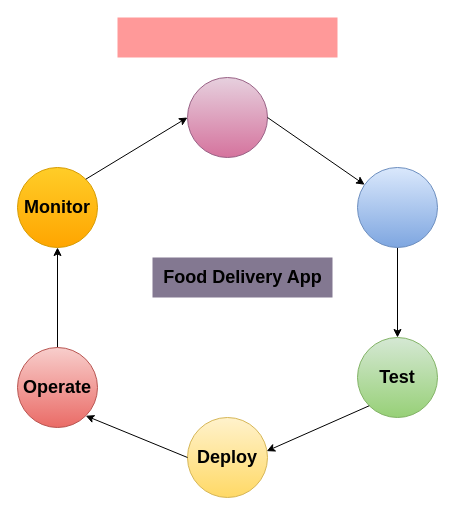
Some shapes in this 455 by 515 pixel diagram are drawn without their labels. The shapes that lost their labels are listed below. From the top down, each one's centre as x and y in pixels, then its label:
At [227,37]: "DevOps Lifecycle".
At [227,117]: "Plan".
At [397,207]: "Build".
